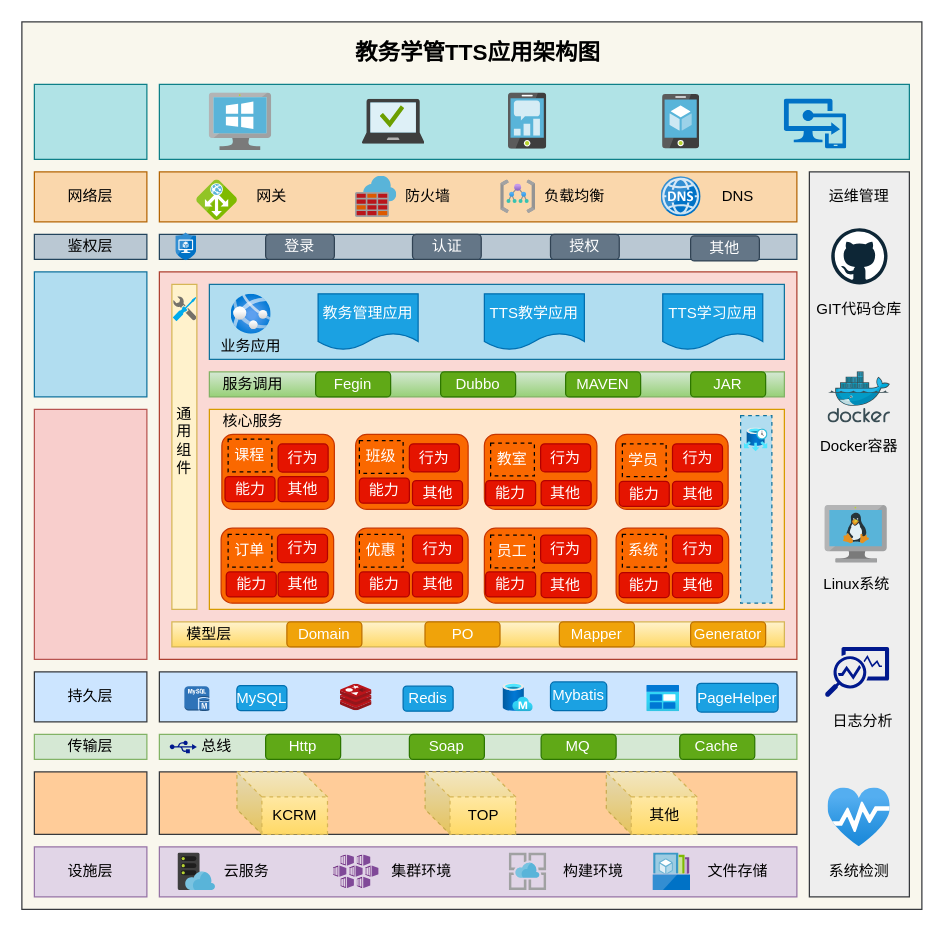
The diagram is 944 pixels wide and 931 high, and some of its shapes have lost their labels. The box of each missing label's shape, as (x1, y1, x2, y2) in pixels:
JOB: (739, 414, 772, 603)
客户端: (33, 83, 147, 159)
应用层: (33, 271, 147, 397)
支持层: (33, 771, 147, 834)
能力层: (33, 408, 147, 659)
